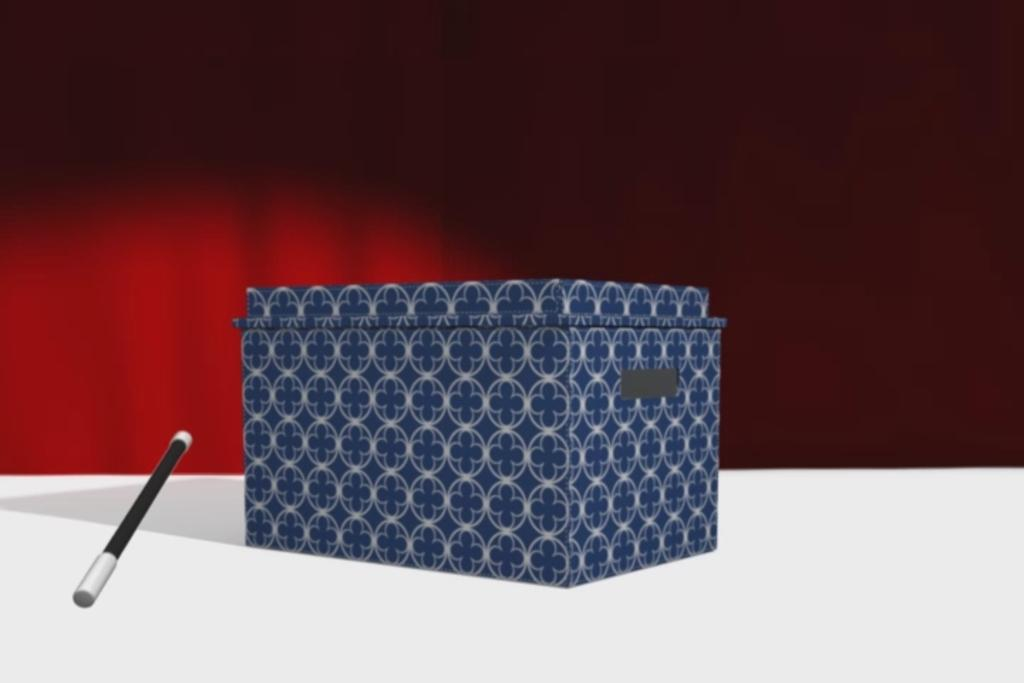pen: (74, 427, 195, 612)
